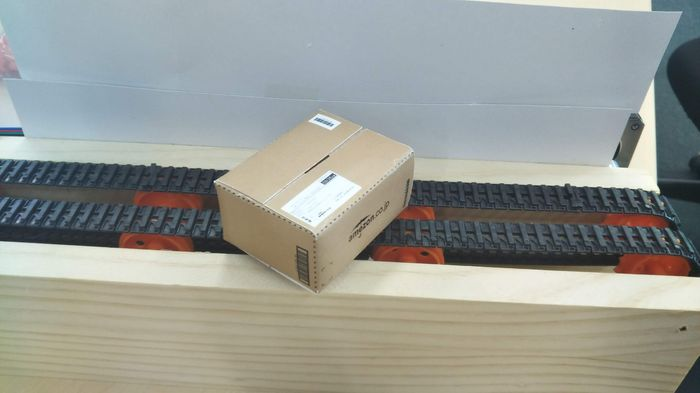box1: (213, 105, 414, 296)
